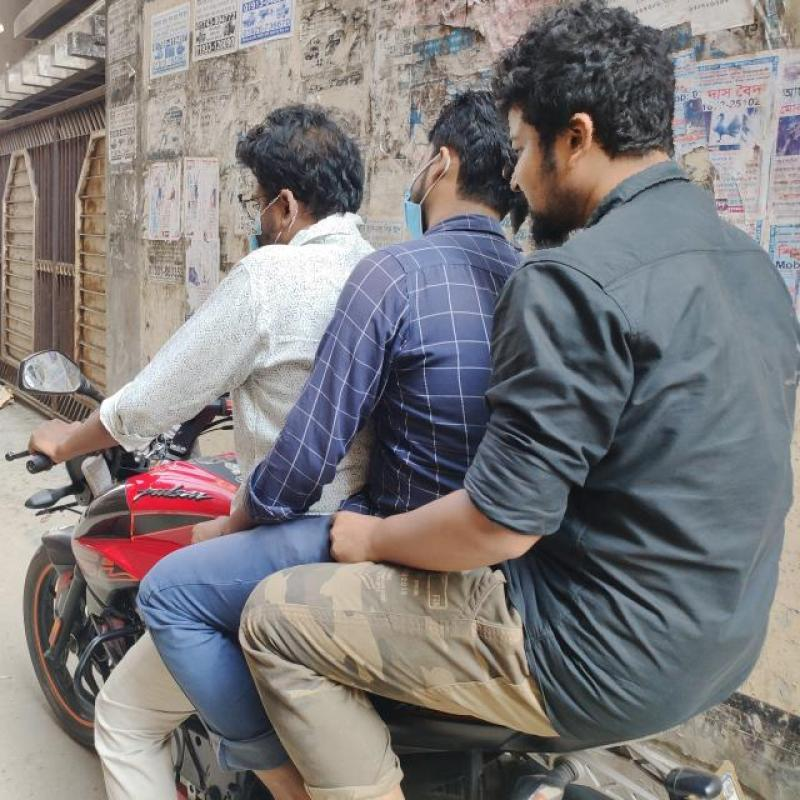nohelmet: (490, 0, 711, 246), (236, 98, 364, 234)
